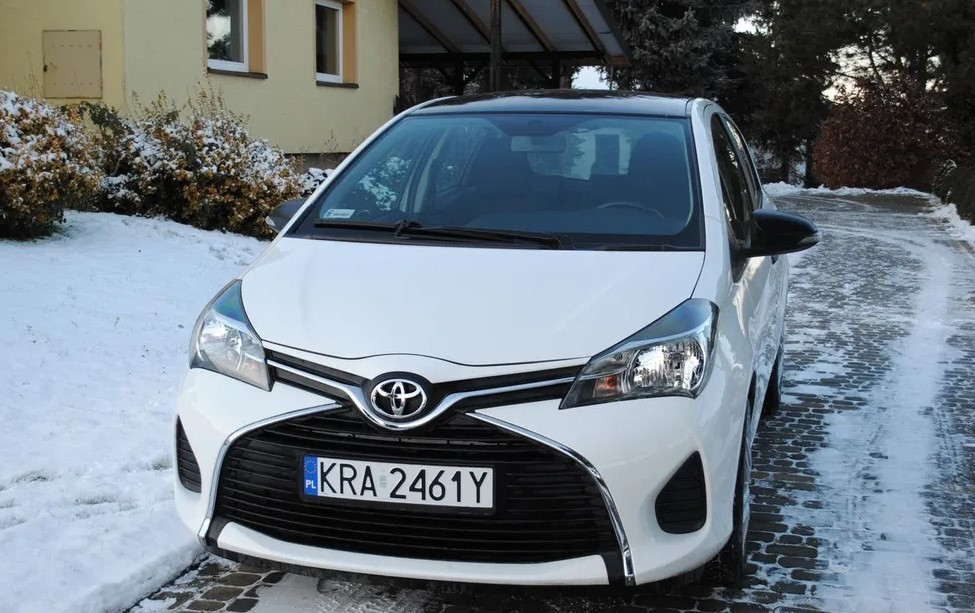number_plate: (291, 449, 510, 515)
